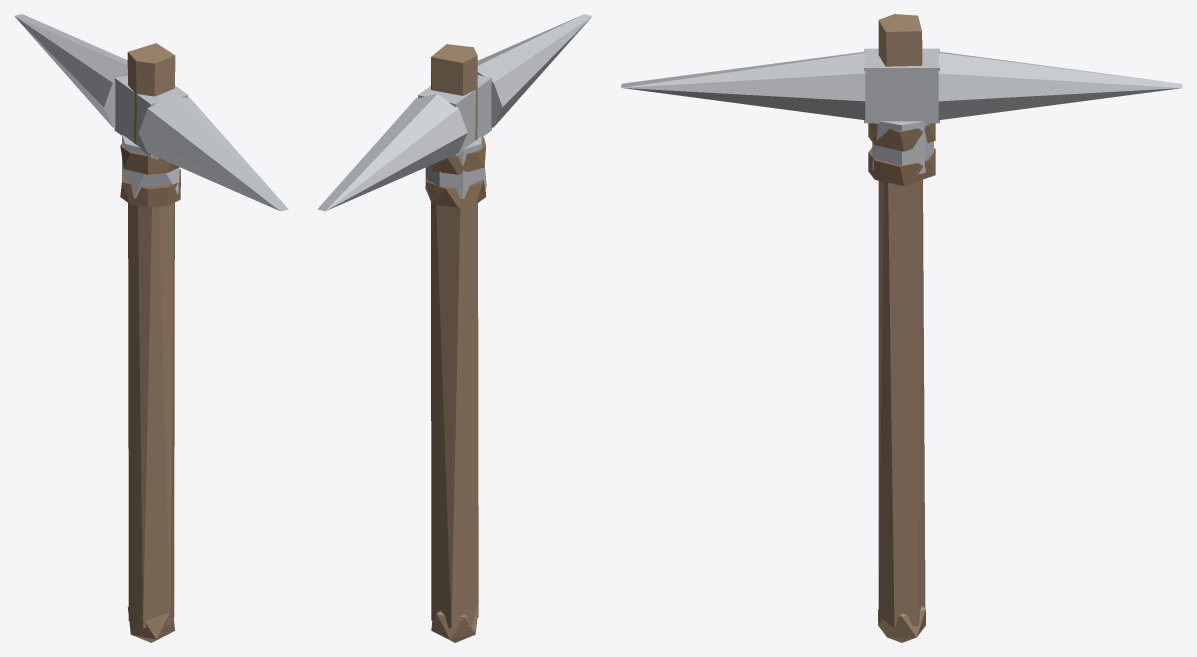
Rendered from 13-Herramientas_pico_hierro.glb.
3 views of the same model, side by side, from view 1: azimuth 30°, elevation 25°; view 2: azimuth 150°, elevation 25°; view 3: azimuth 270°, elevation 25° (orthographic). The views are drawn at different scales.
Parts seen in each view (by area): view 1: SM_PicoHierro_M_Madera_Mango, SM_PicoHierro_M_Hierro_Pico, SM_PicoHierro_M_Cuero_Atadura; view 2: SM_PicoHierro_M_Madera_Mango, SM_PicoHierro_M_Hierro_Pico, SM_PicoHierro_M_Cuero_Atadura; view 3: SM_PicoHierro_M_Hierro_Pico, SM_PicoHierro_M_Madera_Mango, SM_PicoHierro_M_Cuero_Atadura.
Part boxes in pixels (x1=…): SM_PicoHierro_M_Madera_Mango: x1=127, y1=43, x2=175, y2=642; SM_PicoHierro_M_Hierro_Pico: x1=14, y1=14, x2=288, y2=211; SM_PicoHierro_M_Cuero_Atadura: x1=120, y1=142, x2=180, y2=207; SM_PicoHierro_M_Madera_Mango: x1=431, y1=44, x2=478, y2=642; SM_PicoHierro_M_Hierro_Pico: x1=317, y1=14, x2=592, y2=211; SM_PicoHierro_M_Cuero_Atadura: x1=425, y1=137, x2=486, y2=207; SM_PicoHierro_M_Hierro_Pico: x1=621, y1=48, x2=1182, y2=174; SM_PicoHierro_M_Madera_Mango: x1=878, y1=14, x2=925, y2=642; SM_PicoHierro_M_Cuero_Atadura: x1=868, y1=123, x2=935, y2=185.
Bounding box in the file's own units: 0.096 × 0.8968 × 0.7366.
